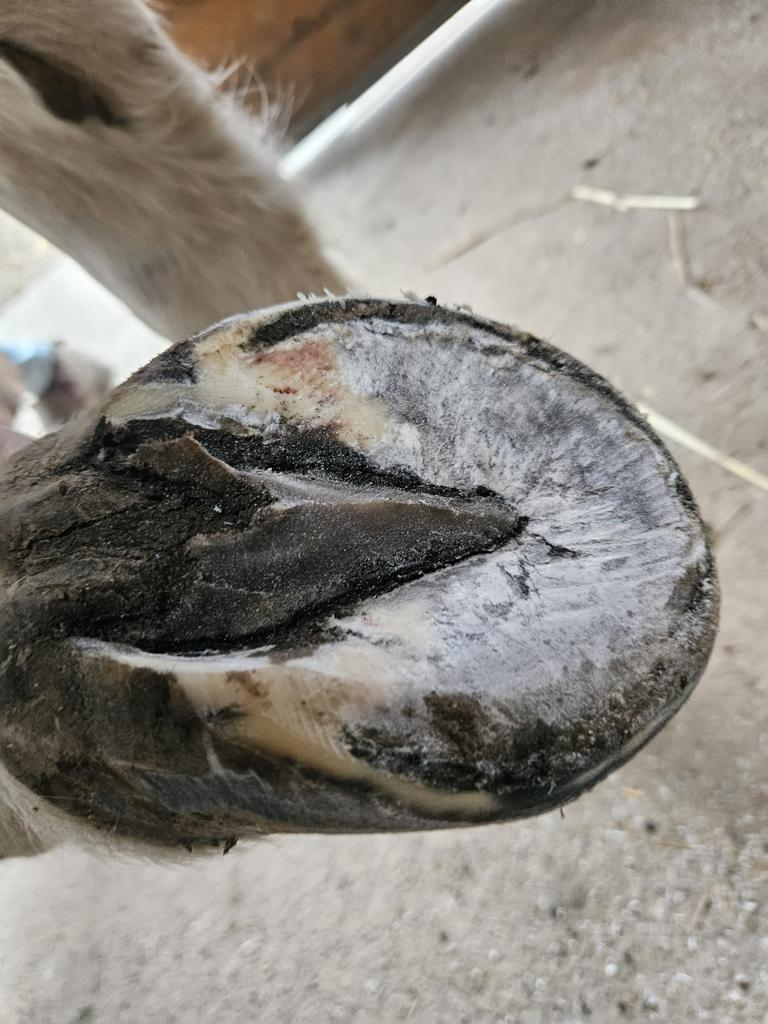horsesole: (101, 296, 720, 828)
